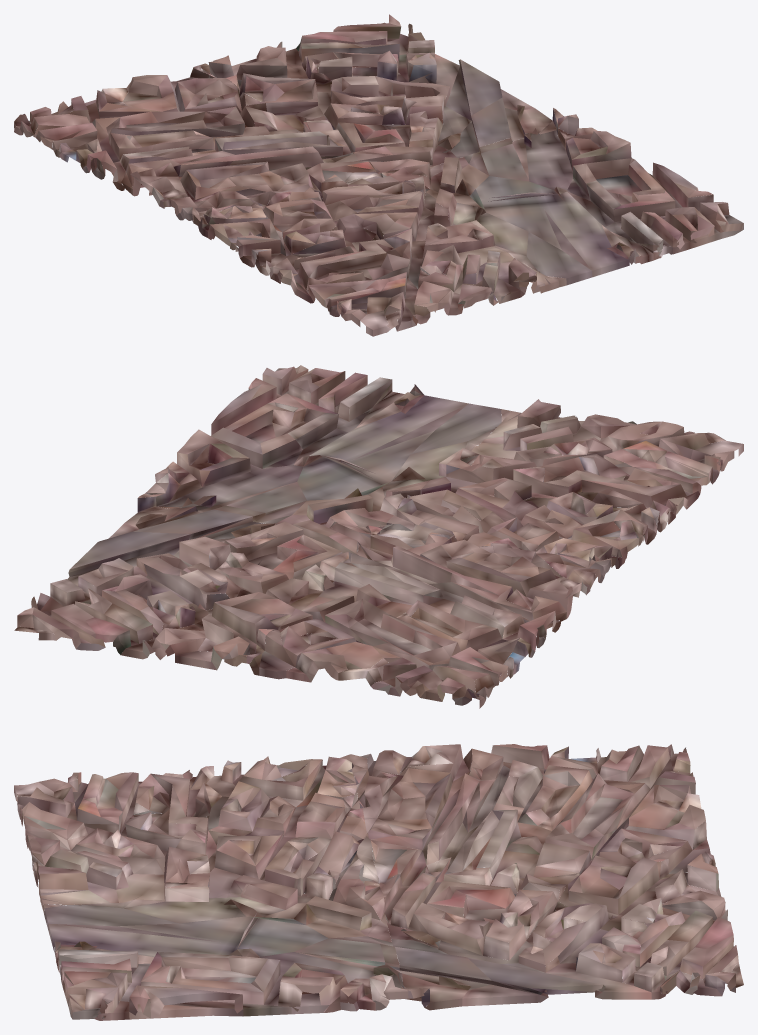
The picture shows the model from 3 angles, top to bottom: view 1: azimuth 30°, elevation 25°; view 2: azimuth 150°, elevation 25°; view 3: azimuth 270°, elevation 25°; orthographic projection. The views are drawn at different scales.
Parts seen in each view (by area): view 1: Mesh_0; view 2: Mesh_0; view 3: Mesh_0.
Boxes of the visible parts, x1=… form: Mesh_0: x1=14, y1=14, x2=743, y2=336; Mesh_0: x1=14, y1=365, x2=743, y2=708; Mesh_0: x1=14, y1=744, x2=743, y2=1020.
Size of the model in its own units: 533 by 52.24 by 659.
2 materials, 2 textured.
